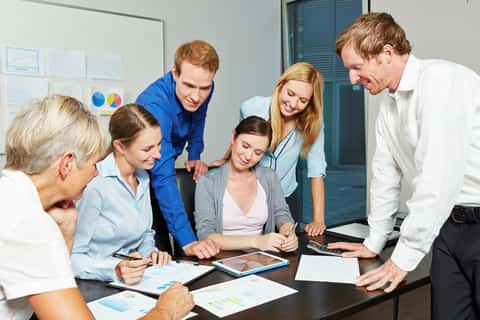Person: (327, 12, 480, 320), (1, 94, 195, 320), (133, 40, 220, 258), (71, 104, 172, 285), (240, 62, 327, 237), (192, 116, 299, 253)
